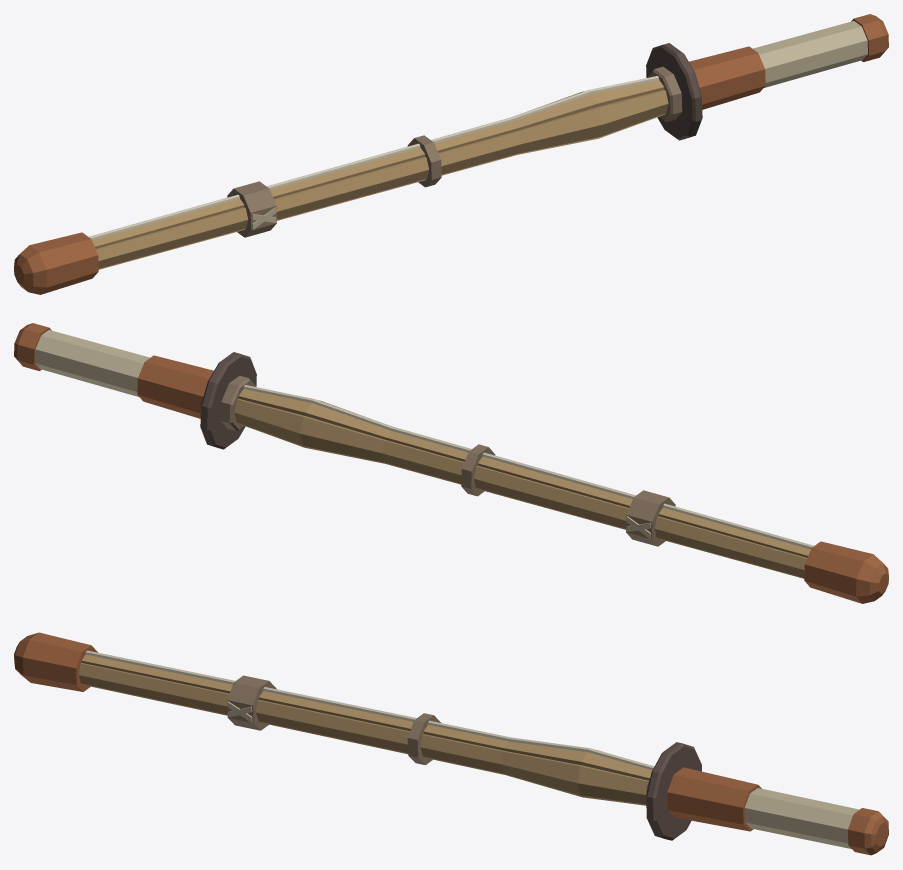
The model's file is kendo-shinai-357be6.glb.
The picture shows the model from 3 angles, top to bottom: view 1: azimuth 30°, elevation 25°; view 2: azimuth 150°, elevation 25°; view 3: azimuth 330°, elevation 25°; orthographic projection.
Parts seen in each view (by area): view 1: kendo-shinai; view 2: kendo-shinai; view 3: kendo-shinai.
Part boxes in pixels (x1=…): kendo-shinai: x1=14, y1=14, x2=888, y2=294; kendo-shinai: x1=14, y1=323, x2=888, y2=603; kendo-shinai: x1=14, y1=632, x2=888, y2=855.
Bounding box in the file's own units: 1.2 × 0.1162 × 0.116.
